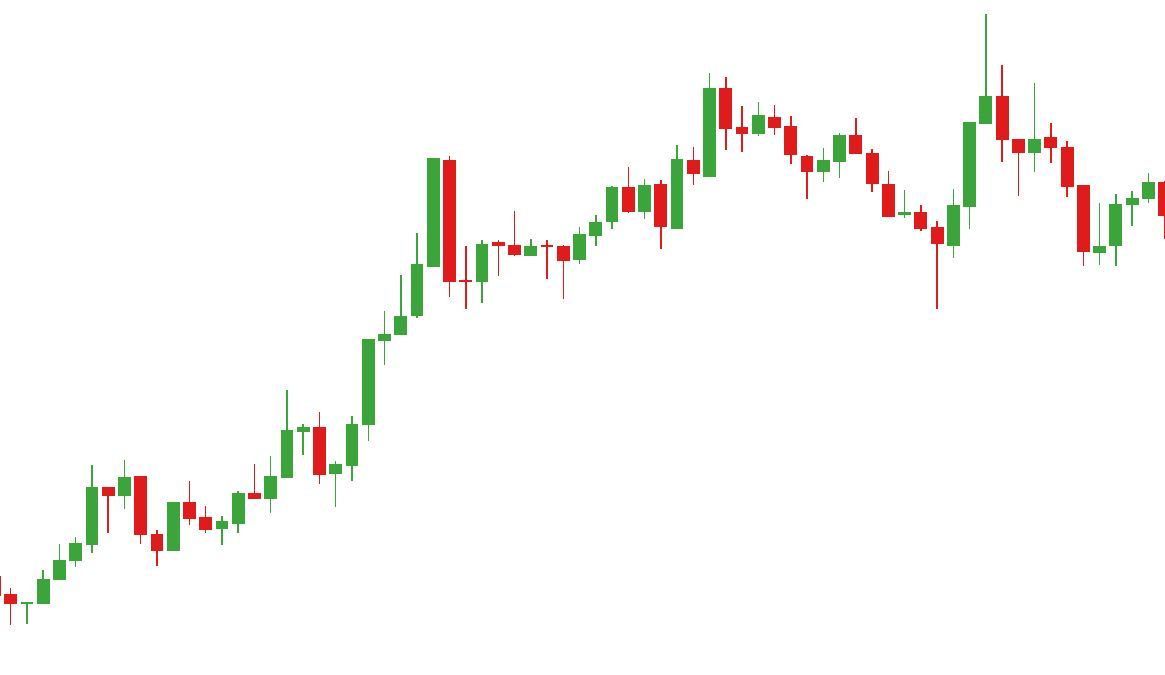sell: (700, 14, 993, 185)
